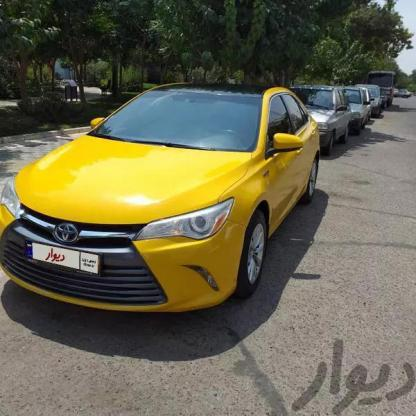Car: (0, 82, 325, 337), (290, 87, 368, 161), (341, 90, 368, 124), (362, 82, 384, 116), (394, 87, 413, 99)
